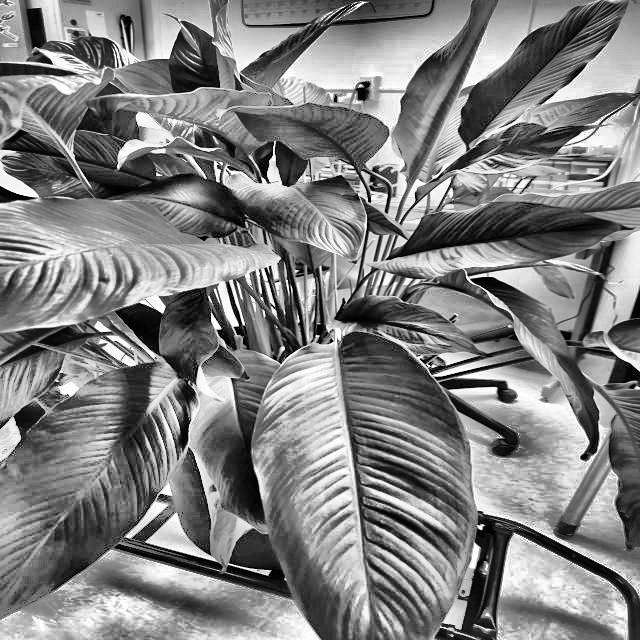plants: (0, 8, 631, 506)
